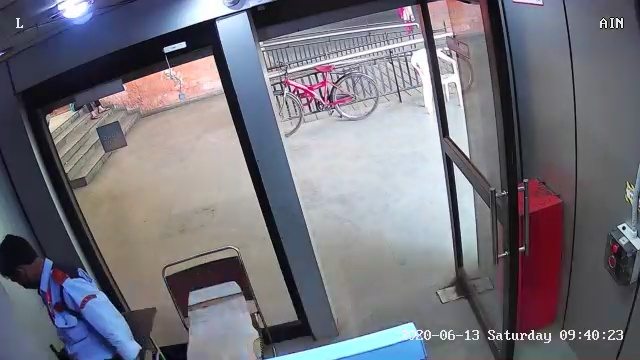open: (390, 3, 568, 360)
